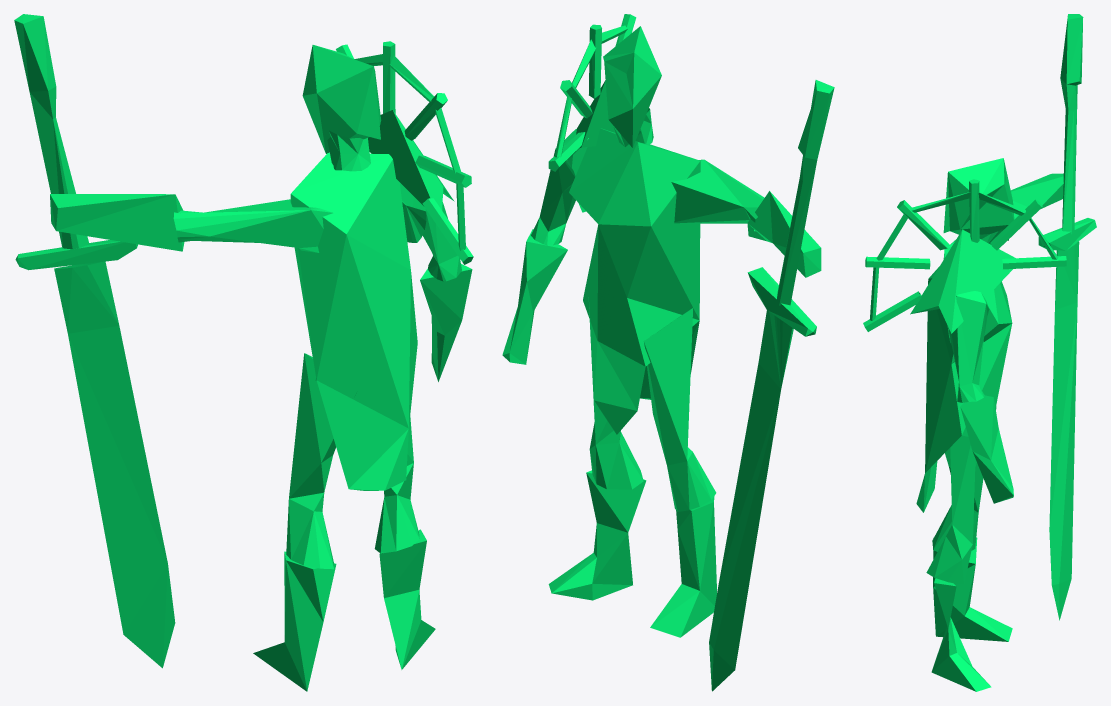
The model's file is Statue1_Collision.FBX.
3 views of the same model, side by side, from view 1: azimuth 30°, elevation 25°; view 2: azimuth 150°, elevation 25°; view 3: azimuth 270°, elevation 25° (orthographic). The views are drawn at different scales.
Parts seen in each view (by area): view 1: Statue1_Collision; view 2: Statue1_Collision; view 3: Statue1_Collision.
Part boxes in pixels (x1=…): Statue1_Collision: x1=14, y1=14, x2=473, y2=691; Statue1_Collision: x1=502, y1=14, x2=834, y2=691; Statue1_Collision: x1=863, y1=14, x2=1096, y2=691.
Bounding box in the file's own units: 253 × 424 × 162.
